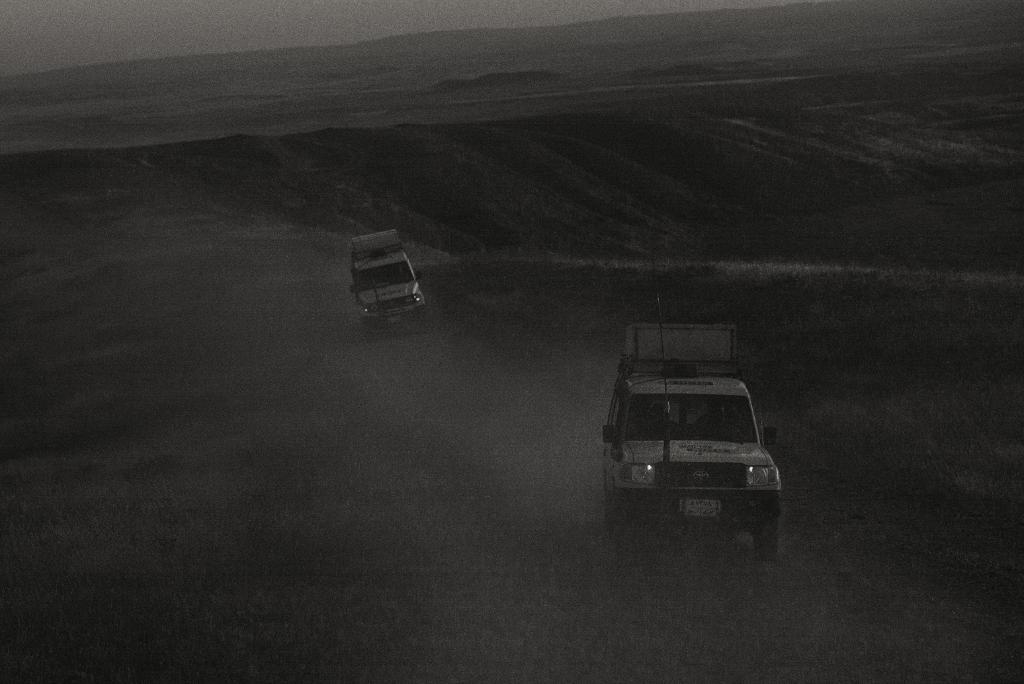mobil: (594, 342, 800, 570), (341, 233, 433, 334)
